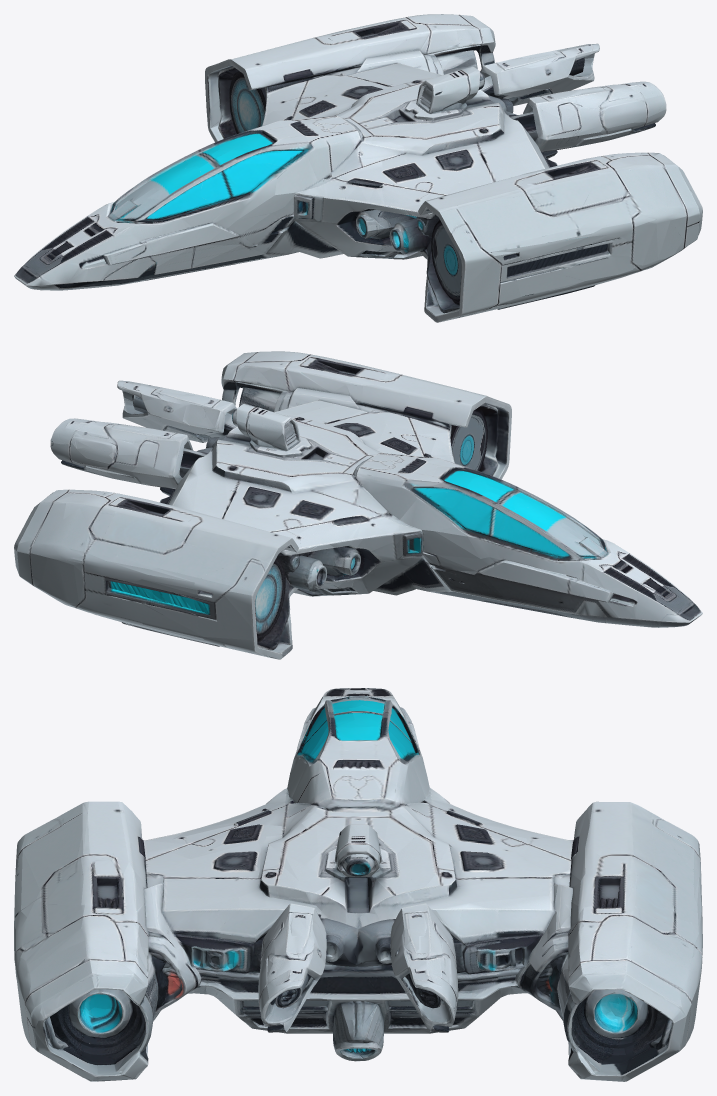
File: white_armored_drone_phase_interceptor_2.glb
3 views of the same model, one above another, from view 1: azimuth 30°, elevation 25°; view 2: azimuth 150°, elevation 25°; view 3: azimuth 270°, elevation 25° (orthographic). The views are drawn at different scales.
Size of the model in its own units: 1.43 by 0.3432 by 1.06.
1 material, 1 textured.
